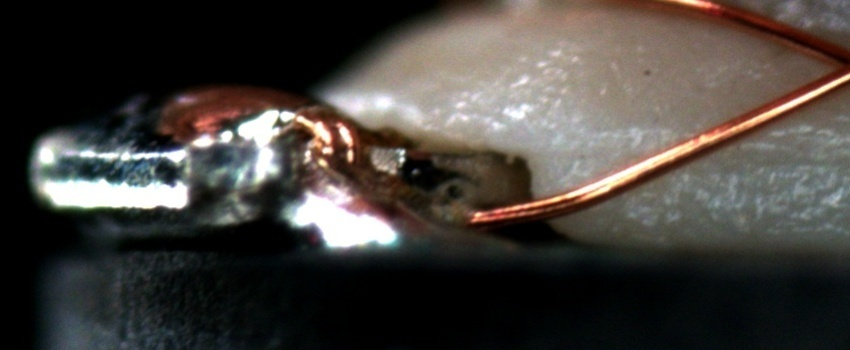CL: (804, 32, 850, 96)
DL: (599, 118, 849, 180)
TE: (282, 91, 375, 162)
